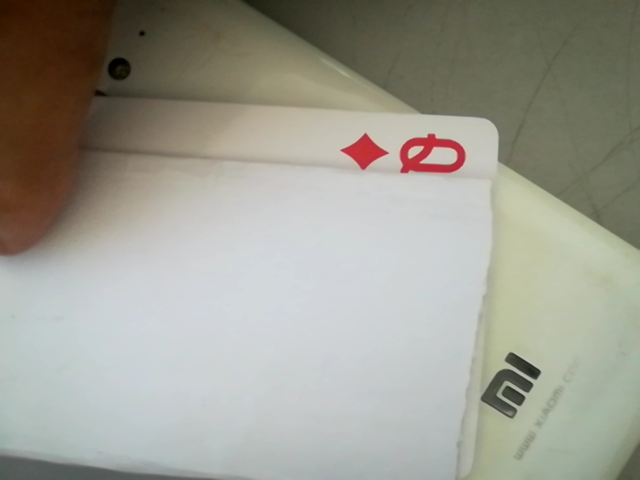fk q: (337, 127, 483, 181)
